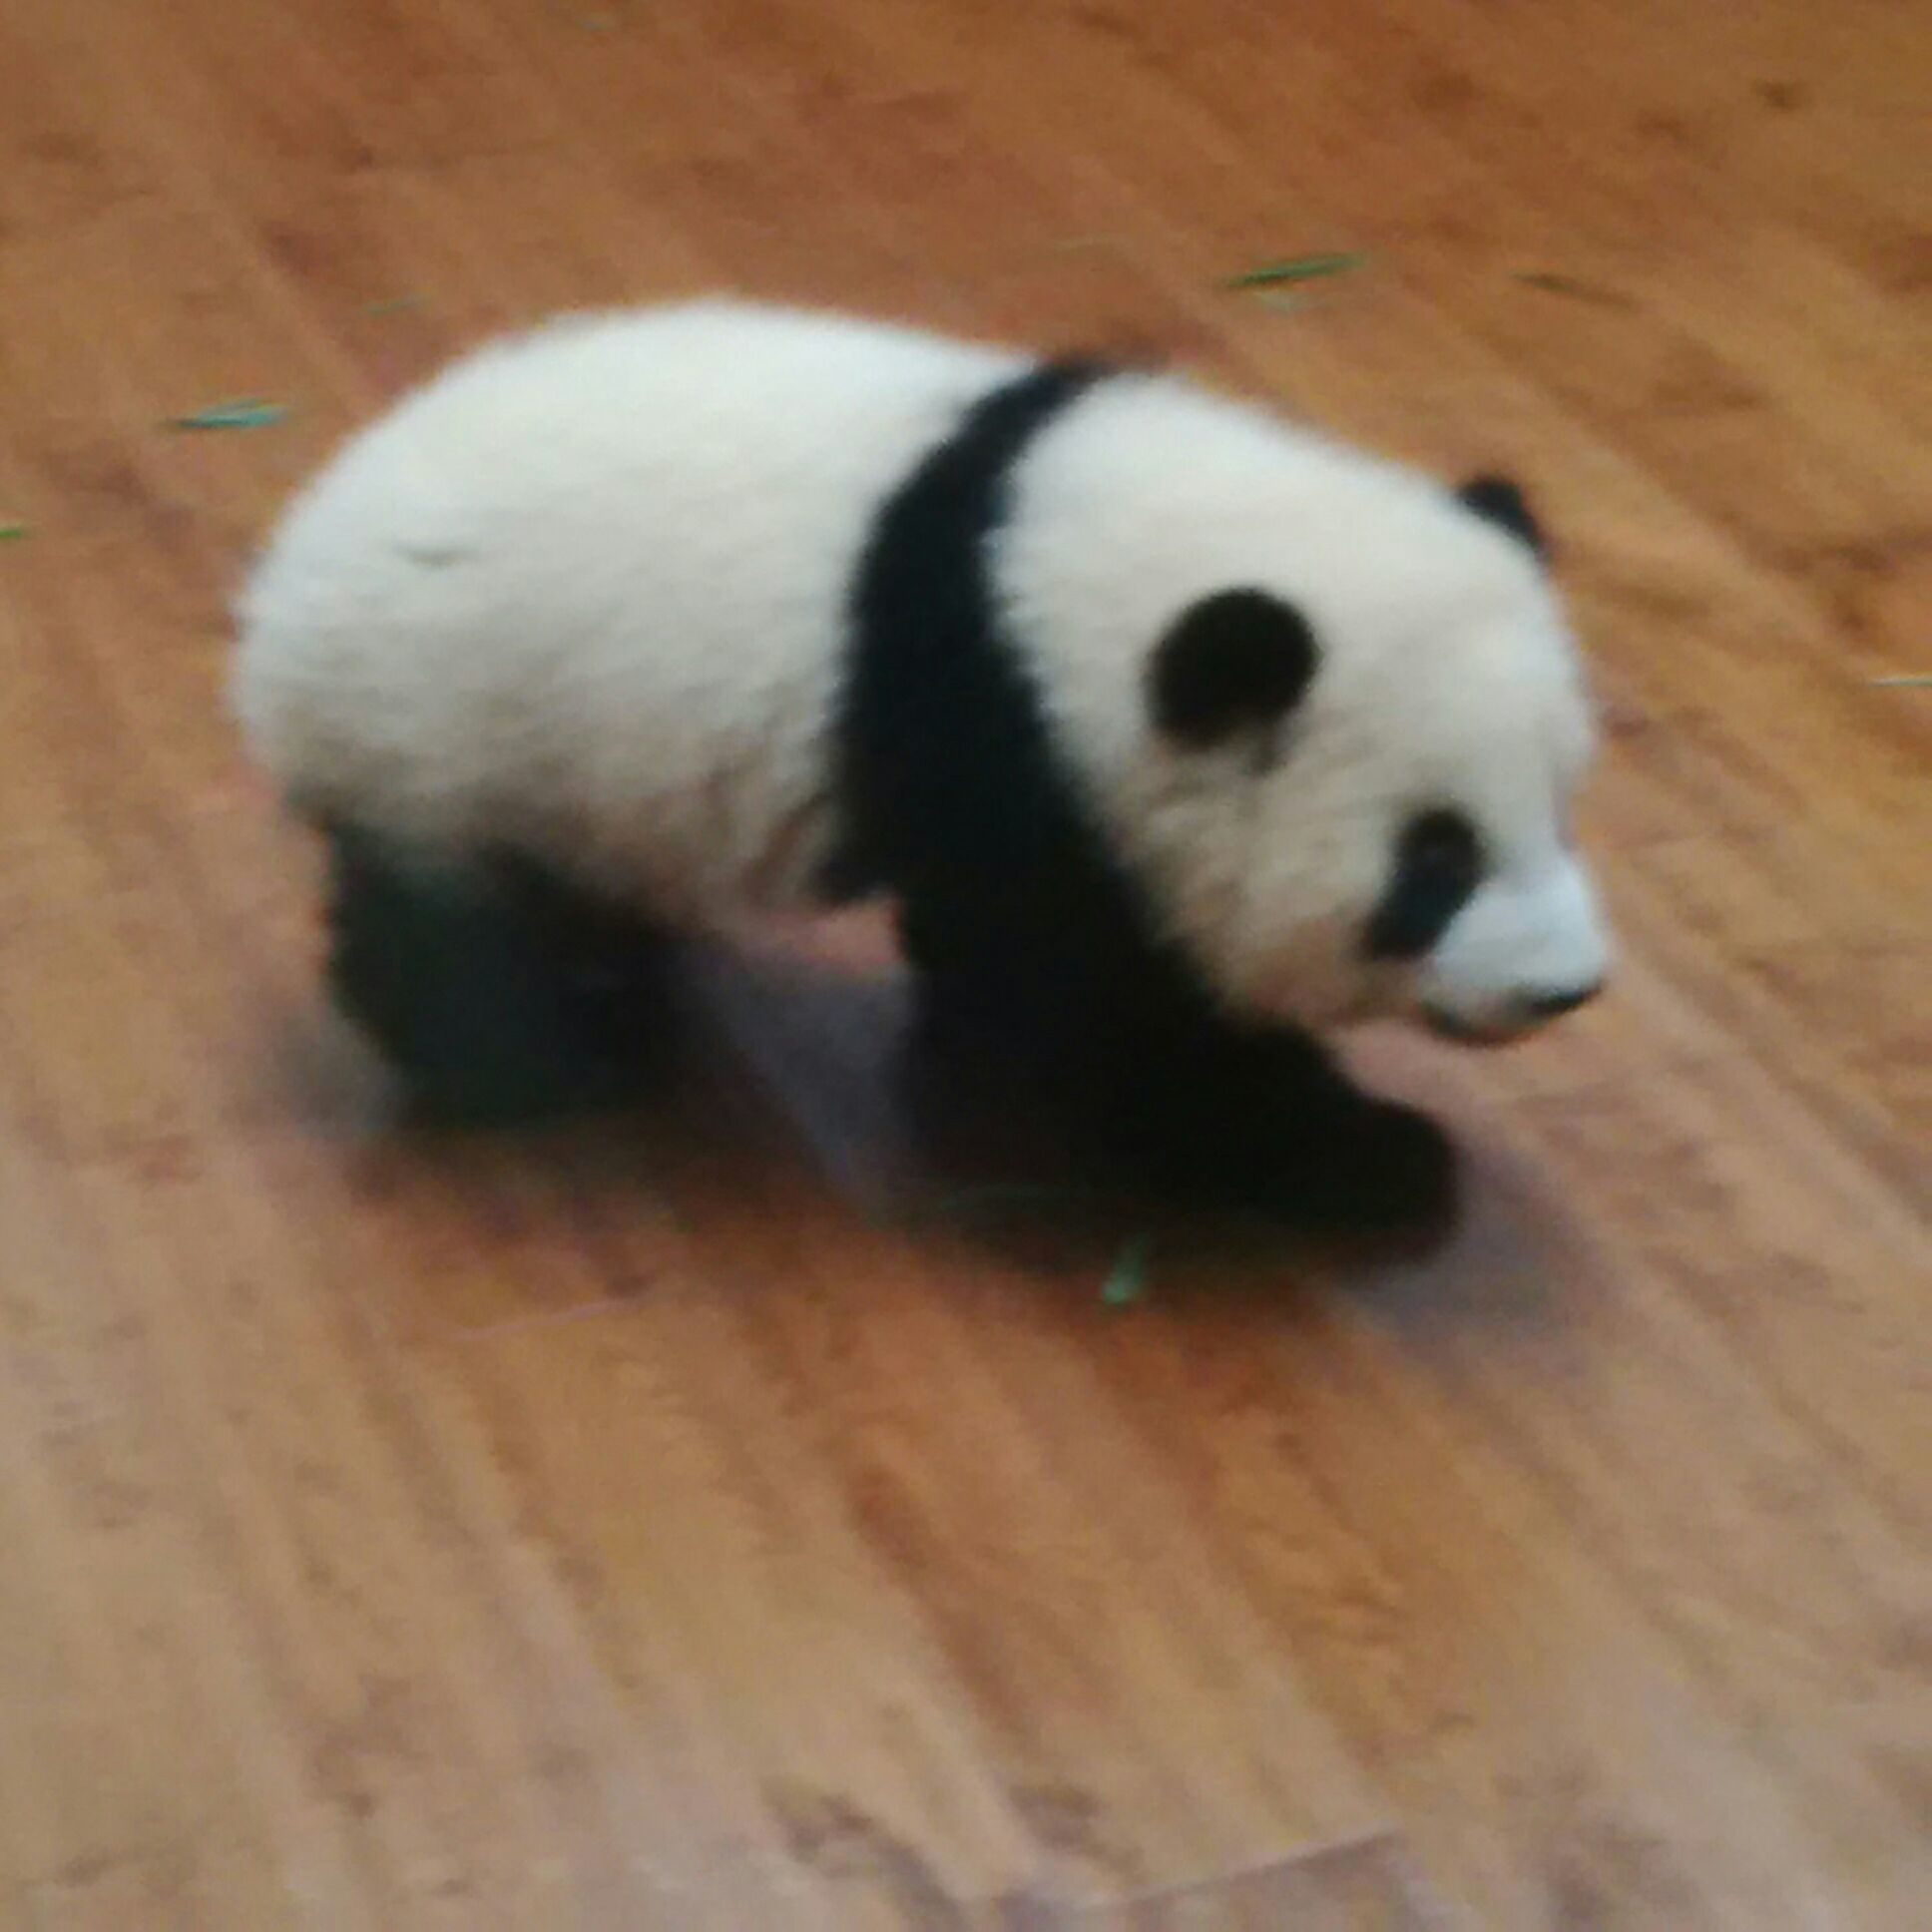panda: (159, 182, 1698, 1249)
